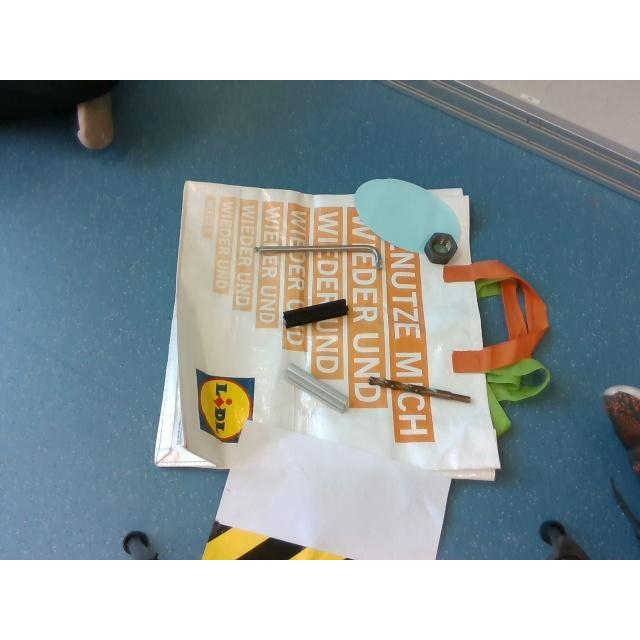AllenKey: (253, 243, 383, 269)
Drill: (366, 376, 469, 402)
F20_20_B: (284, 300, 348, 328)
F20_20_G: (284, 364, 348, 412)
M30: (423, 232, 457, 264)
